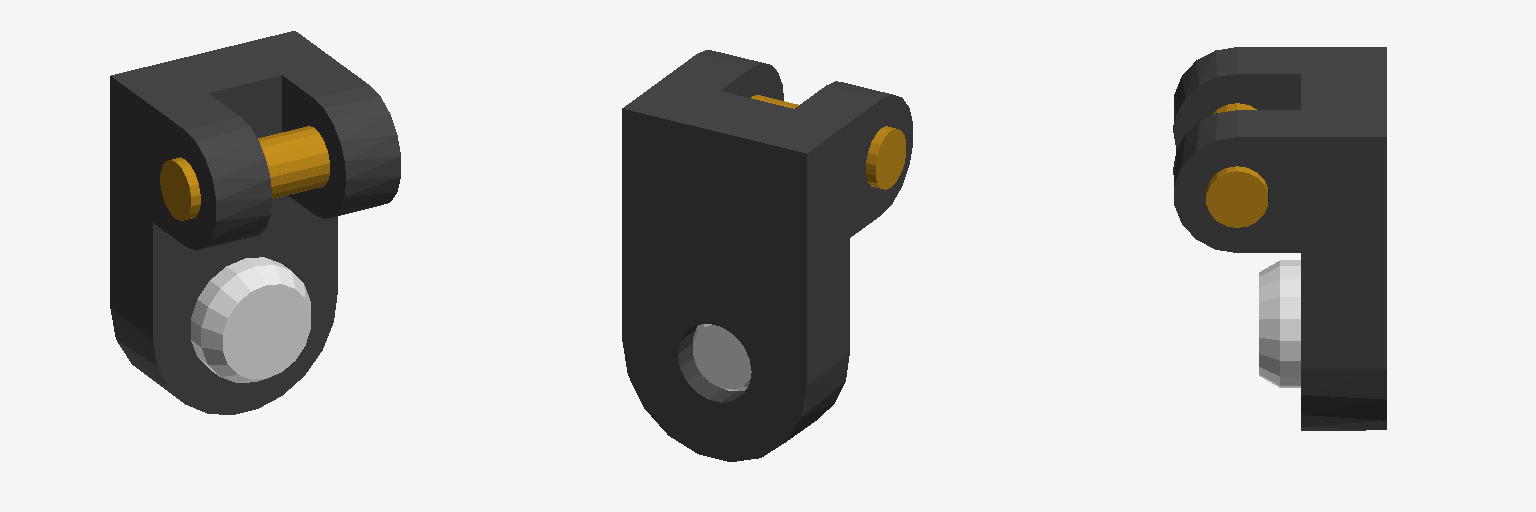
The model's file is f2b_lasche.obj.
3 views of the same model, side by side, from view 1: azimuth 30°, elevation 25°; view 2: azimuth 150°, elevation 25°; view 3: azimuth 270°, elevation 25° (orthographic).
Parts seen in each view (by area): view 1: Body, Body002, Body001; view 2: Body, Body002, Body001; view 3: Body, Body002, Body001.
Part boxes in pixels (x1,y1,x2,y2): Body: (110,31,400,414); Body002: (191,257,310,382); Body001: (160,126,329,220); Body: (622,50,912,461); Body002: (693,324,751,390); Body001: (751,95,905,189); Body: (1173,47,1386,430); Body002: (1259,260,1300,387); Body001: (1206,103,1267,227).
Bounding box in the file's own units: 55 × 84.77 × 50.